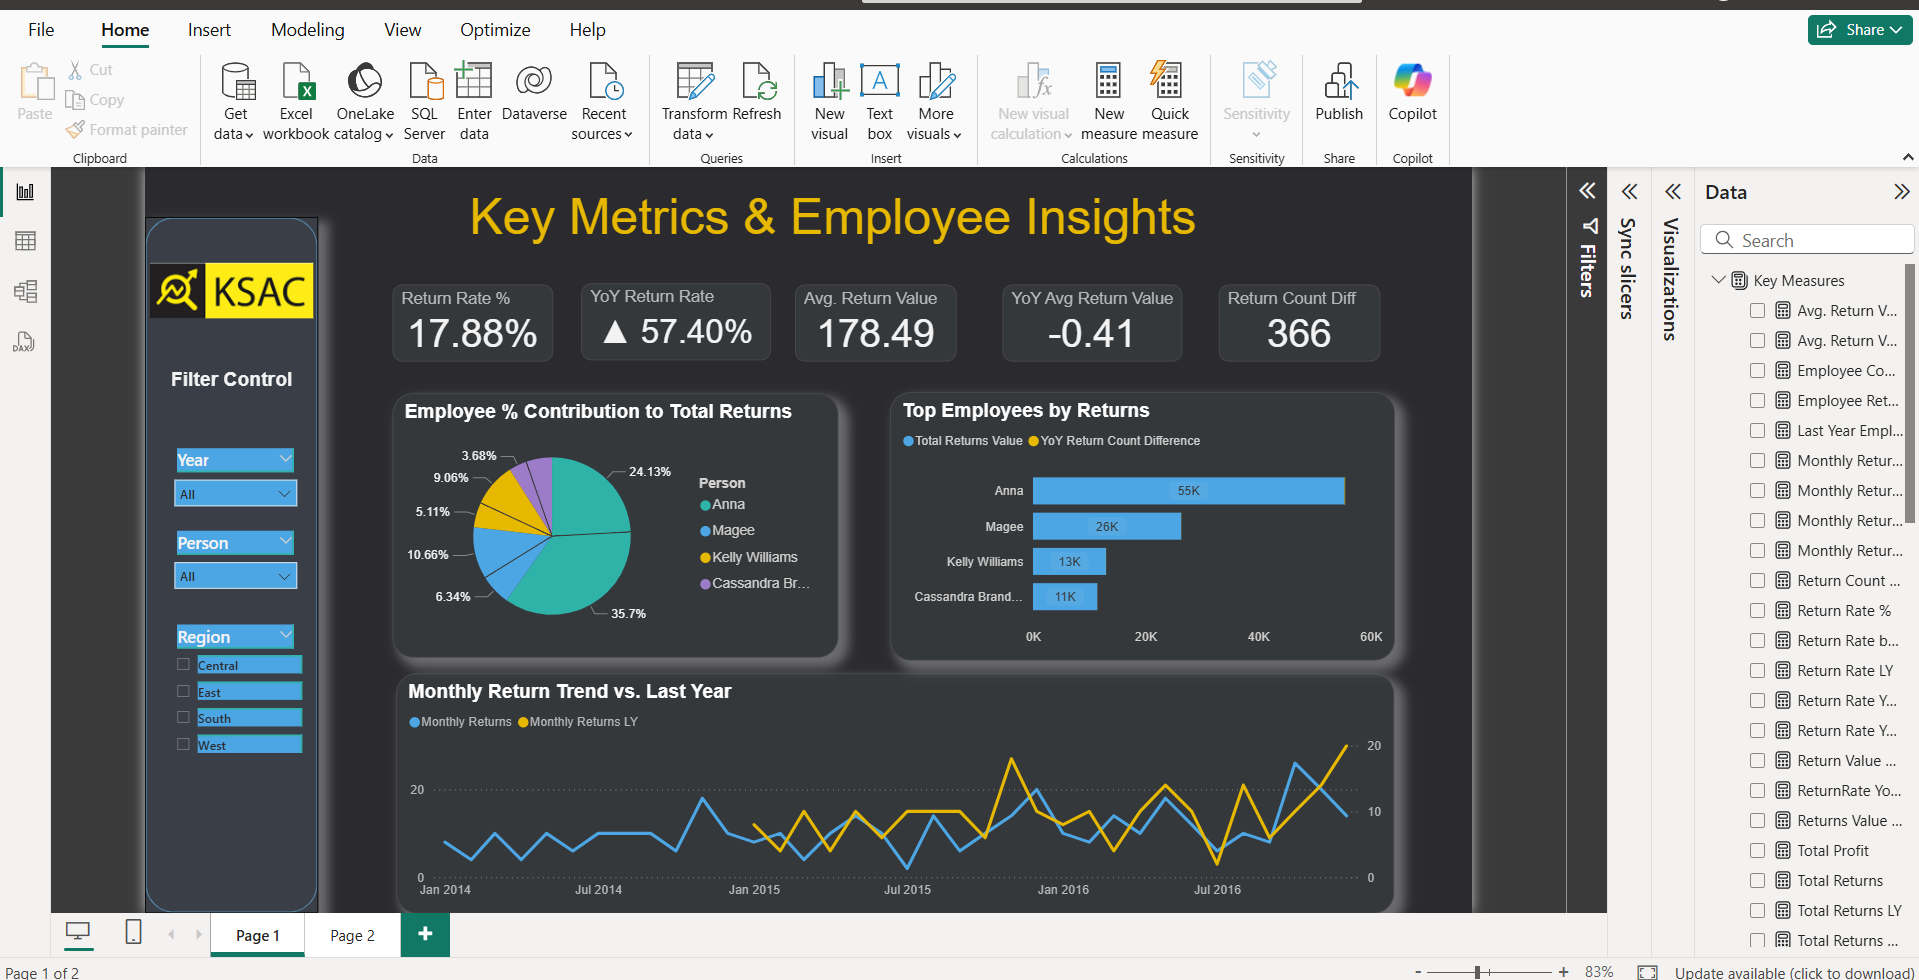

What the dashboard file says about the page in this screenshot:
{"tool":"powerbi","page":{"name":"Page 1","canvas":[1280,720],"ordinal":0},"visuals":[{"type":"card","title":" Return Rate %","fields":{"Values":["Key Measures.Return Rate %"]},"box":[238.8,113.9,155.1,74.1],"z":0},{"type":"card","title":"Avg. Return Value","fields":{"Values":["Key Measures.Avg. Return Value"]},"box":[627.3,113.4,155.6,74.8],"z":1000},{"type":"lineChart","title":"Monthly Return Trend vs. Last Year","fields":{"Y":["Key Measures.Monthly Returns"],"Category":["Dim_Date.Date.Variation.Date Hierarchy.Year","Dim_Date.Date.Variation.Date Hierarchy.Month"],"Y2":["Key Measures.Monthly Returns Last Year"]},"box":[242.9,488.5,963.3,231.9],"z":2000},{"type":"barChart","title":"Top Employees by Returns","fields":{"Y":["Key Measures.Total Returns Value","Key Measures.YoY Return Count Difference"],"Category":["People.Person"]},"box":[719,216.8,487.1,259.3],"z":3000},{"type":"pieChart","title":"Employee % Contribution to Total Returns","fields":{"Category":["People.Person"],"Y":["Key Measures.Employee Returns Contribution %","Key Measures.Last Year Employee Contribution %"]},"box":[238.8,218.2,430,255],"z":4000},{"type":"card","title":"YoY Return Rate","fields":{"Values":["Key Measures.ReturnRate YoY Arrow Text"]},"box":[421,112.2,183.4,74.8],"z":5000},{"type":"card","title":"YoY Avg Return Value","fields":{"Values":["Key Measures.YoY Avg. Return Value Change"]},"box":[827.6,113.4,173.7,74.8],"z":6000},{"type":"card","title":"Return Count Diff","fields":{"Values":["Key Measures.YoY Return Count Difference"]},"box":[1036.3,113.4,155.6,74.8],"z":7000},{"type":"shape","box":[0,48,167.4,672.4],"z":8000},{"type":"textbox","box":[220.8,10.9,874.7,74.8],"z":9000},{"type":"textbox","box":[9.6,189.4,149.6,41.2],"z":10000},{"type":"slicer","fields":{"Values":["Dim_Date.Date.Variation.Date Hierarchy.Year"]},"box":[17.8,266.2,138.6,65.9],"z":11000},{"type":"image","box":[0,86.4,167.4,64.5],"z":12000},{"type":"slicer","fields":{"Values":["People.Person"]},"box":[17.8,345.8,138.6,81],"z":13000},{"type":"slicer","fields":{"Values":["fact_orders.Region"]},"box":[17.8,436.4,138.6,145.5],"z":14000}]}

Visuals, with their boxes on the page's 1280x720 design canvas (x1, y1, x2, y2). These are canvas units, not pixel positions in the 1919x980 screenshot, which may show the page scaled, cropped or inside an application window:
" Return Rate %" card: select_region(239, 114, 394, 188)
"Avg. Return Value" card: select_region(627, 113, 783, 188)
"Monthly Return Trend vs. Last Year" lineChart: select_region(243, 488, 1206, 720)
"Top Employees by Returns" barChart: select_region(719, 217, 1206, 476)
"Employee % Contribution to Total Returns" pieChart: select_region(239, 218, 669, 473)
"YoY Return Rate" card: select_region(421, 112, 604, 187)
"YoY Avg Return Value" card: select_region(828, 113, 1001, 188)
"Return Count Diff" card: select_region(1036, 113, 1192, 188)
shape: select_region(0, 48, 167, 720)
textbox: select_region(221, 11, 1096, 86)
textbox: select_region(10, 189, 159, 231)
slicer - Dim_Date.Date.Variation.Date Hierarchy.Year: select_region(18, 266, 156, 332)
image: select_region(0, 86, 167, 151)
slicer - People.Person: select_region(18, 346, 156, 427)
slicer - fact_orders.Region: select_region(18, 436, 156, 582)
